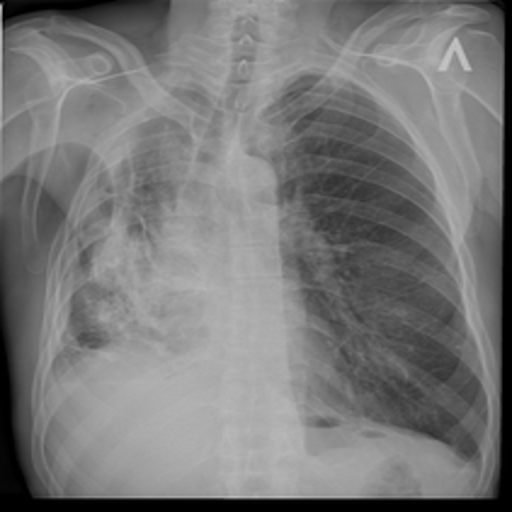TB: (44, 165, 162, 369)
